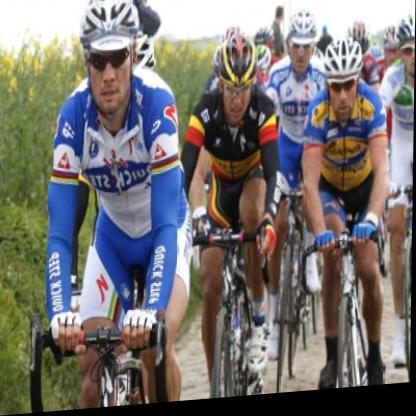With Helmet: (76, 0, 147, 120), (315, 34, 368, 134), (211, 32, 259, 131), (288, 12, 321, 80)
